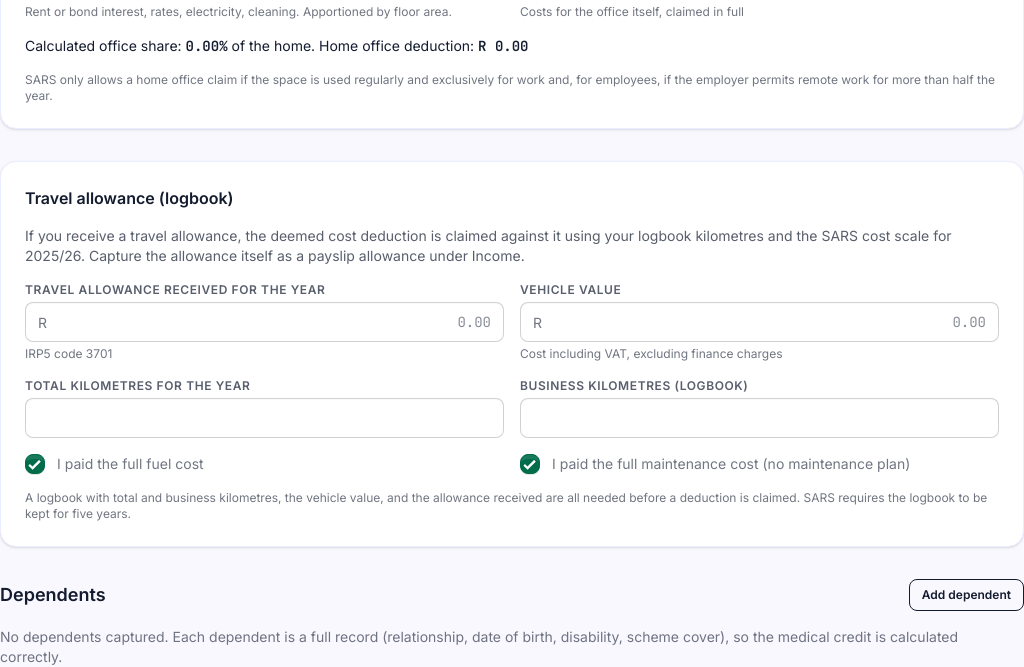
Test: DeductionsPage › removes a dependent
This screenshot has width=1024, height=667.
(page scrolled)
Click the button "Add dependent".
click(966, 595)  # box top-left (909, 579), bottom-right (1023, 611)
(page scrolled)
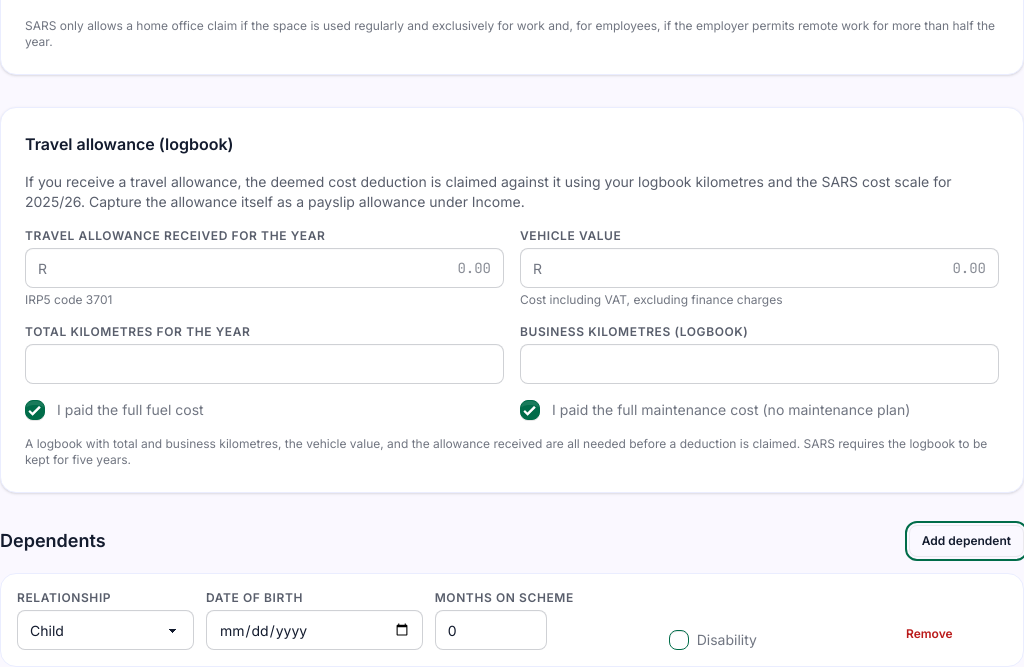
Click the button with aria-label "remove dependent".
click(929, 634)  # box top-left (852, 618), bottom-right (1007, 650)
(page scrolled)
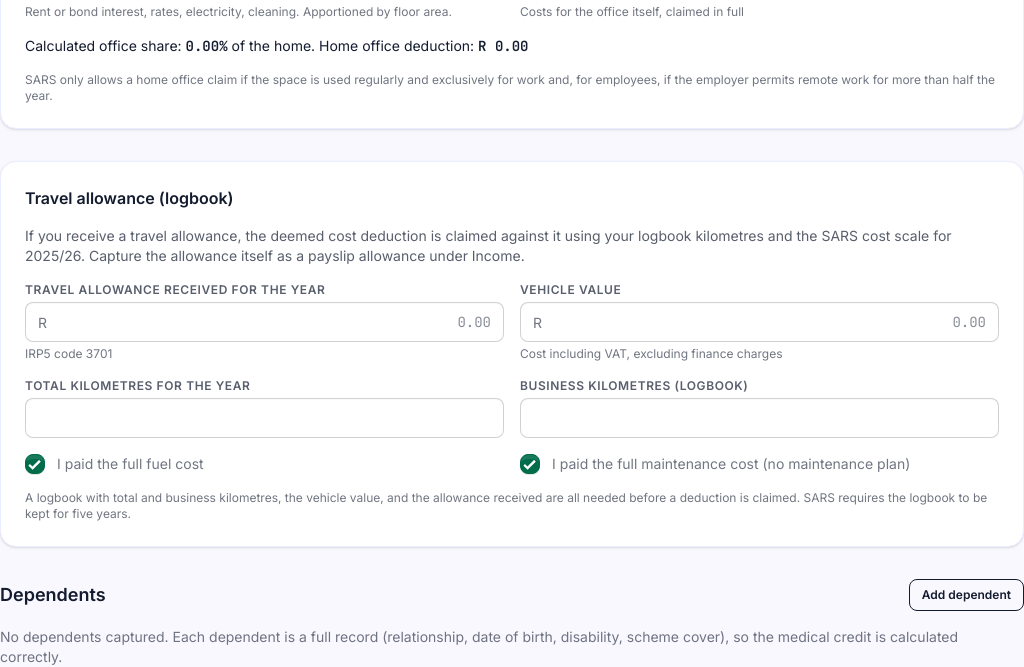
Check: the text "No dependents captured" is shown, box top-left (0, 628), bottom-right (958, 665)
